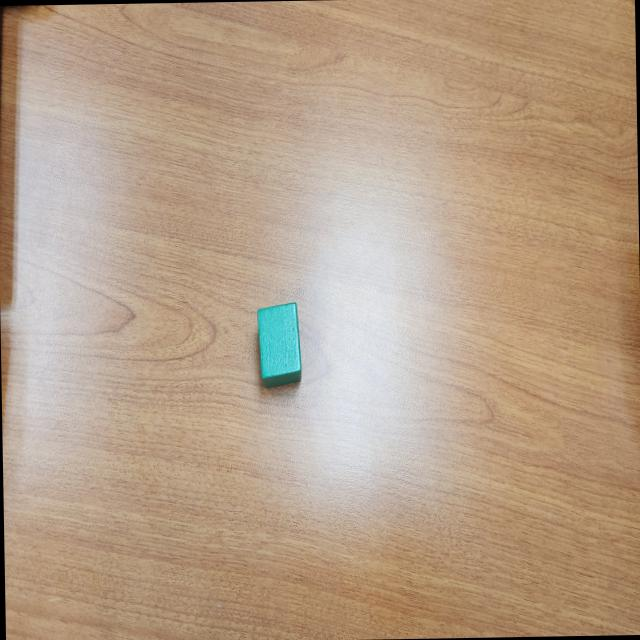green: (256, 301, 303, 389)
